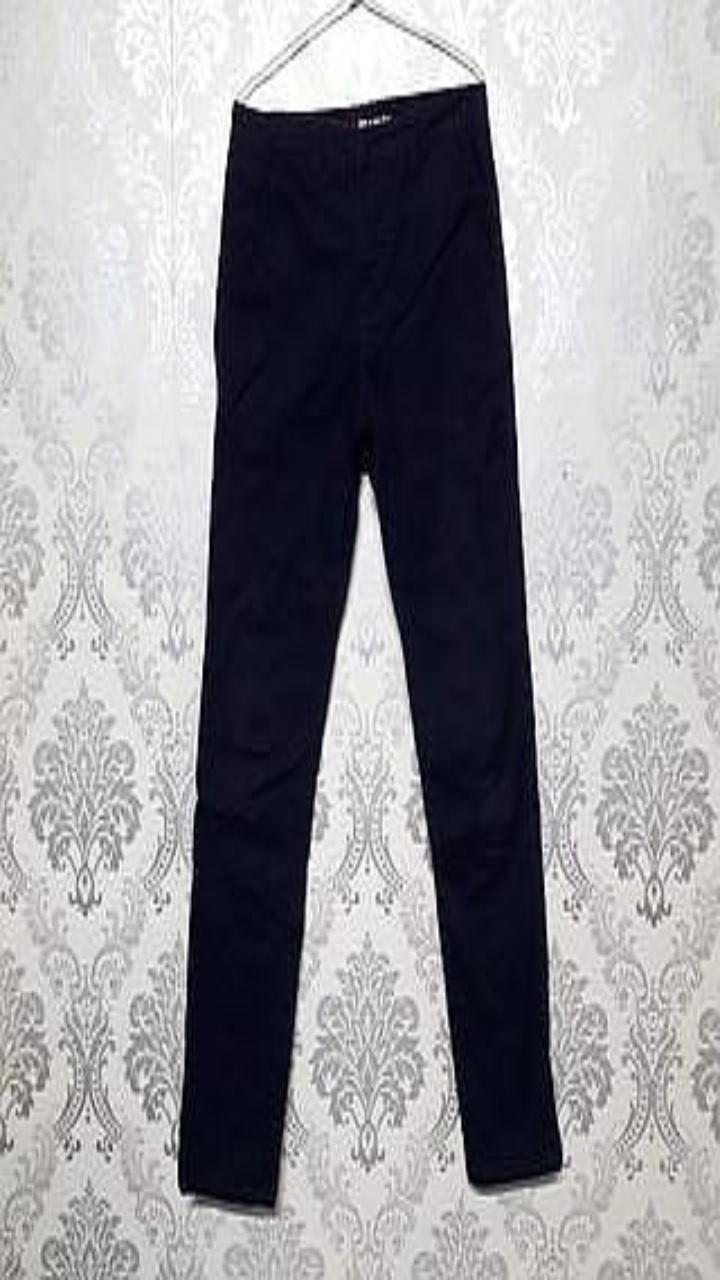Jeans: (178, 82, 562, 1204)
